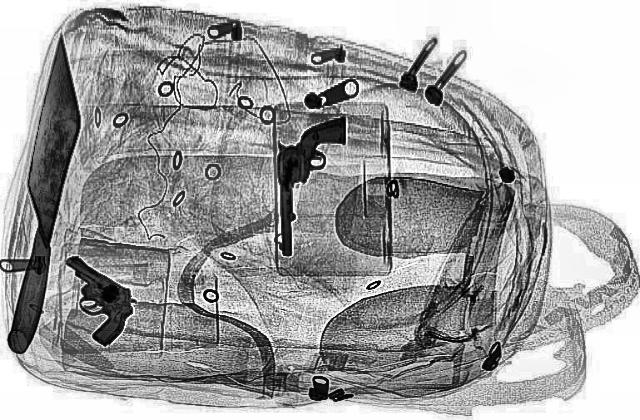Gun: (14, 251, 166, 347), (272, 117, 350, 255)
Knife: (4, 32, 92, 353)
